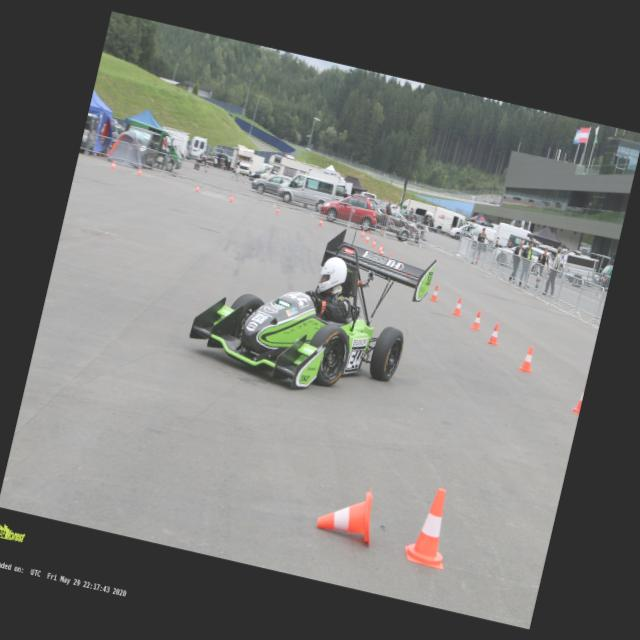orange_cone: (402, 483, 460, 570), (313, 479, 382, 546), (570, 378, 586, 414), (518, 344, 536, 374), (485, 321, 504, 346), (469, 308, 484, 330), (450, 296, 465, 317), (428, 284, 442, 302), (402, 268, 412, 283), (395, 259, 404, 272), (370, 238, 378, 248), (364, 232, 371, 242), (377, 242, 384, 252), (359, 228, 365, 238), (193, 184, 200, 192), (110, 160, 116, 169), (136, 167, 142, 176), (228, 193, 234, 202), (317, 217, 323, 226), (274, 206, 280, 214), (380, 248, 384, 256), (388, 252, 392, 258)
